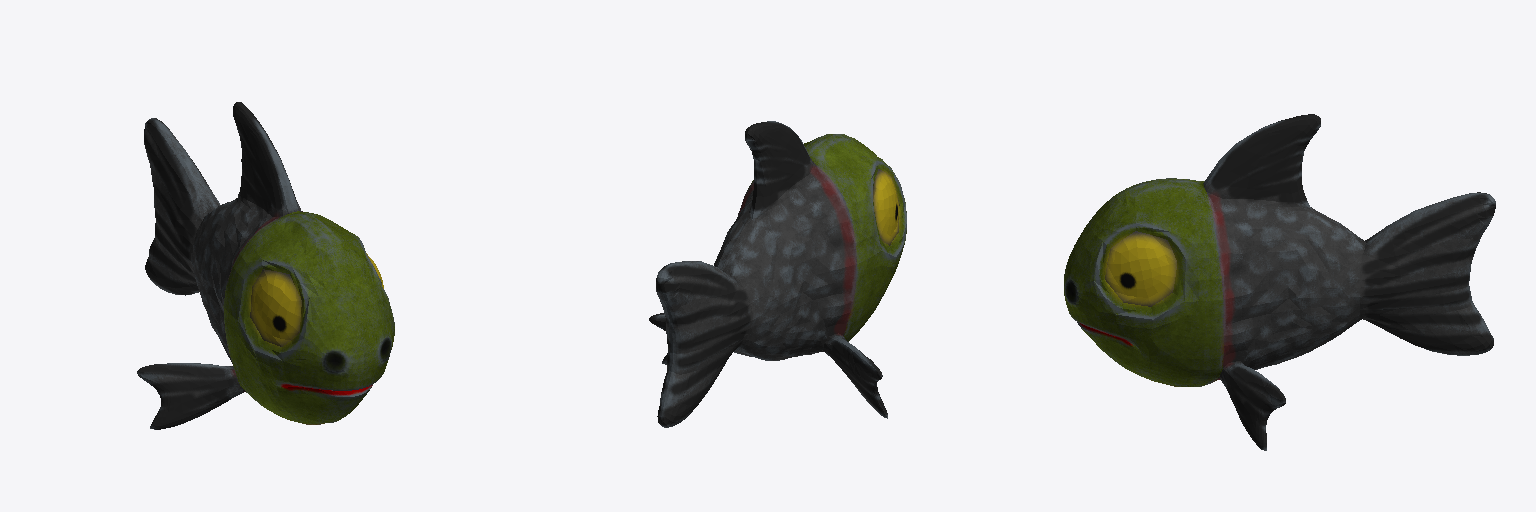
The picture shows the model from 3 angles: view 1: azimuth 30°, elevation 25°; view 2: azimuth 150°, elevation 25°; view 3: azimuth 270°, elevation 25°; orthographic projection.
Visible parts, largest first — view 1: fish1_Cube; view 2: fish1_Cube; view 3: fish1_Cube.
Part boxes in pixels (left/top/right/bottom): fish1_Cube: left=137, top=102, right=394, bottom=429; fish1_Cube: left=649, top=121, right=906, bottom=427; fish1_Cube: left=1064, top=114, right=1495, bottom=450.
Bounding box in the file's own units: 2.73 × 3.16 × 4.39.
1 materials, 1 textured.